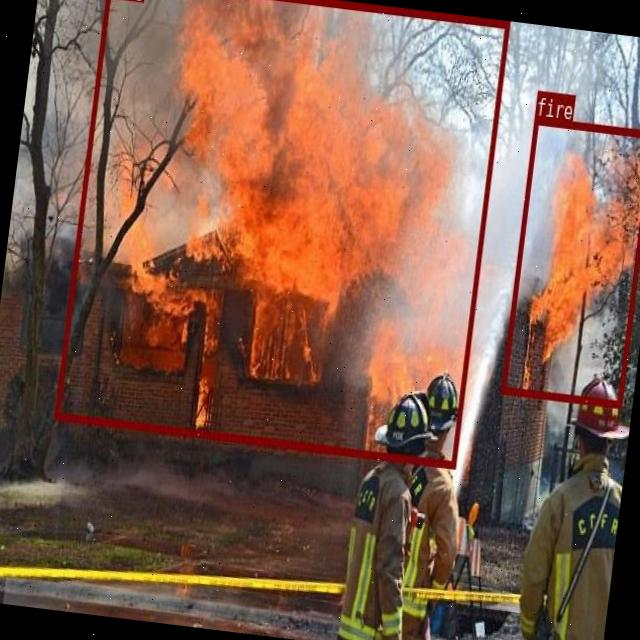fire: (53, 0, 509, 465), (499, 114, 640, 407)
